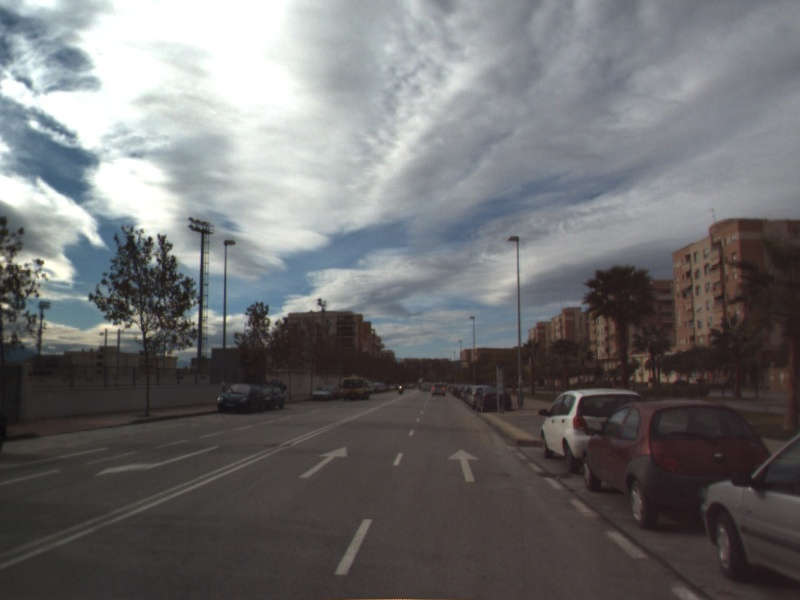STRAIGHT: (297, 444, 350, 480), (446, 447, 483, 483)
